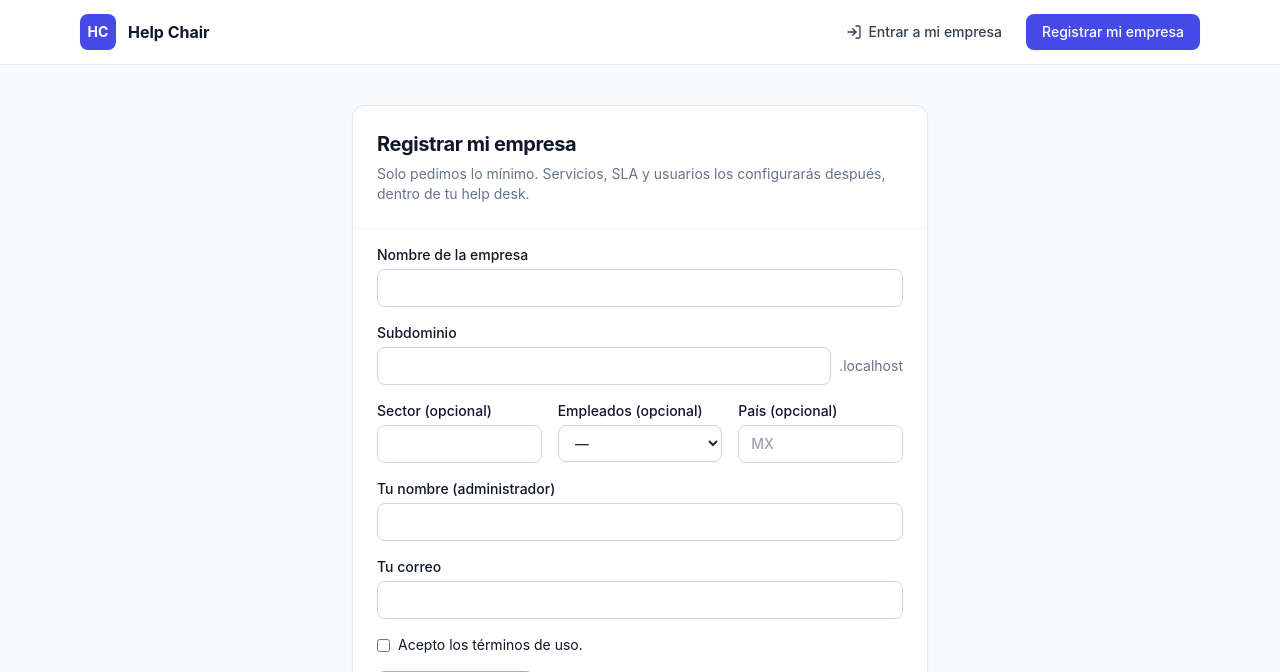
Scenario: PublicSite › rechaza subdominios inválidos sin consultar a la API
In the field labelled "Subdominio": (604, 366) x1=377 y1=347 x2=831 y2=385, type "a"
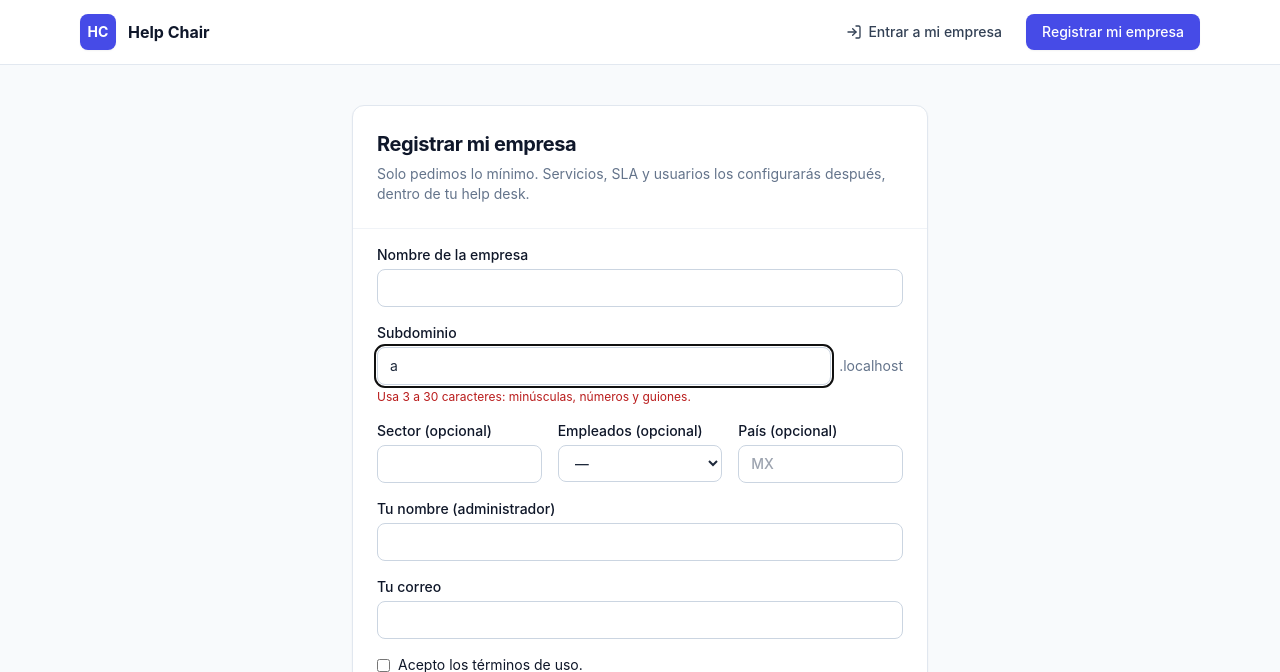
expect the text "Usa 3 a 30 caracteres: minúsculas, números y guiones." is shown: met, box x1=377 y1=389 x2=691 y2=404
